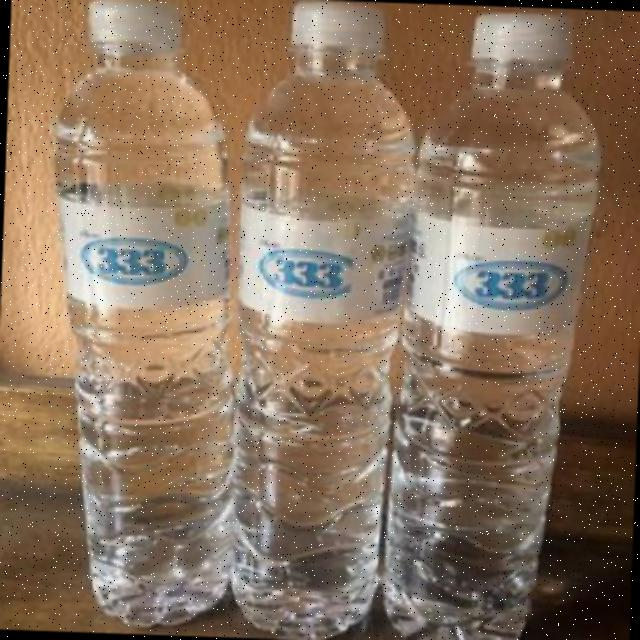bottle: (10, 0, 259, 613), (210, 0, 413, 613), (396, 8, 598, 616)
cap: (467, 5, 583, 79), (275, 0, 394, 68), (72, 0, 196, 60)
label: (51, 194, 243, 314), (405, 218, 582, 332), (236, 204, 400, 318)
